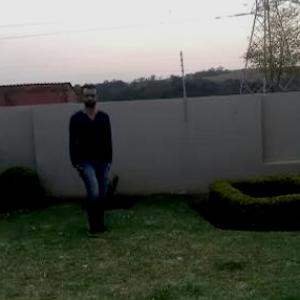follow: (67, 83, 117, 235)
